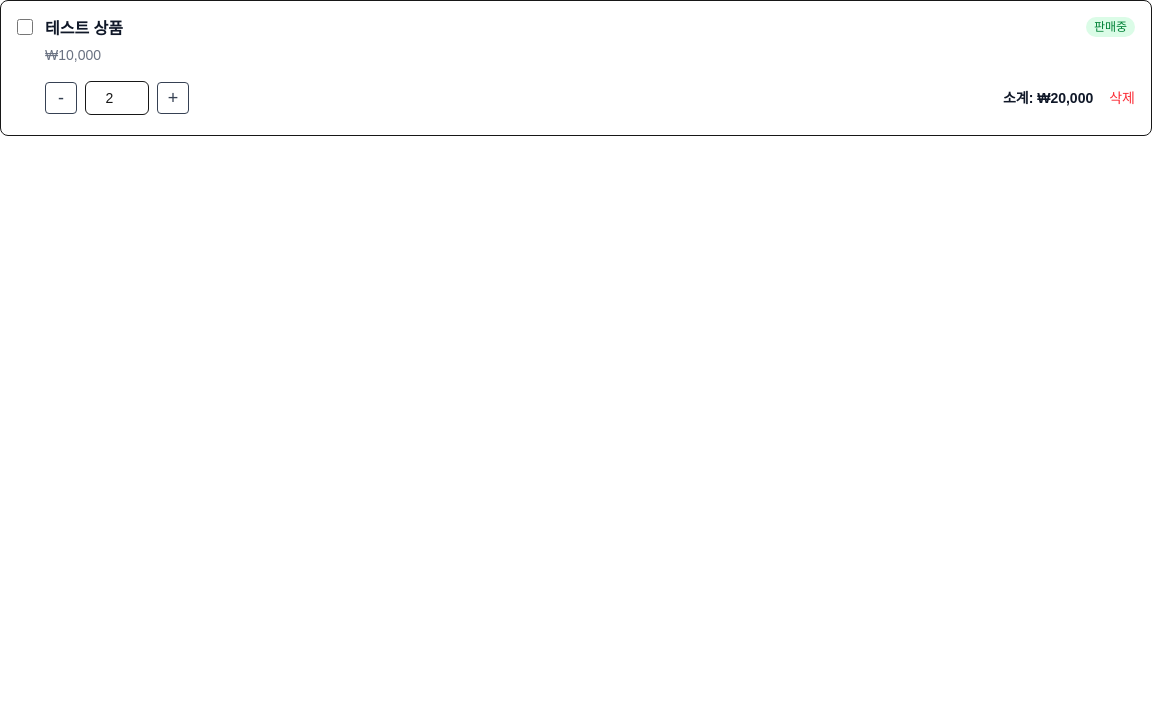
Test: CartItemRow › 삭제 다이얼로그에서 취소 시 다이얼로그가 닫힌다
Click the button "삭제" at (1122, 98), box [1109,88,1135,108]
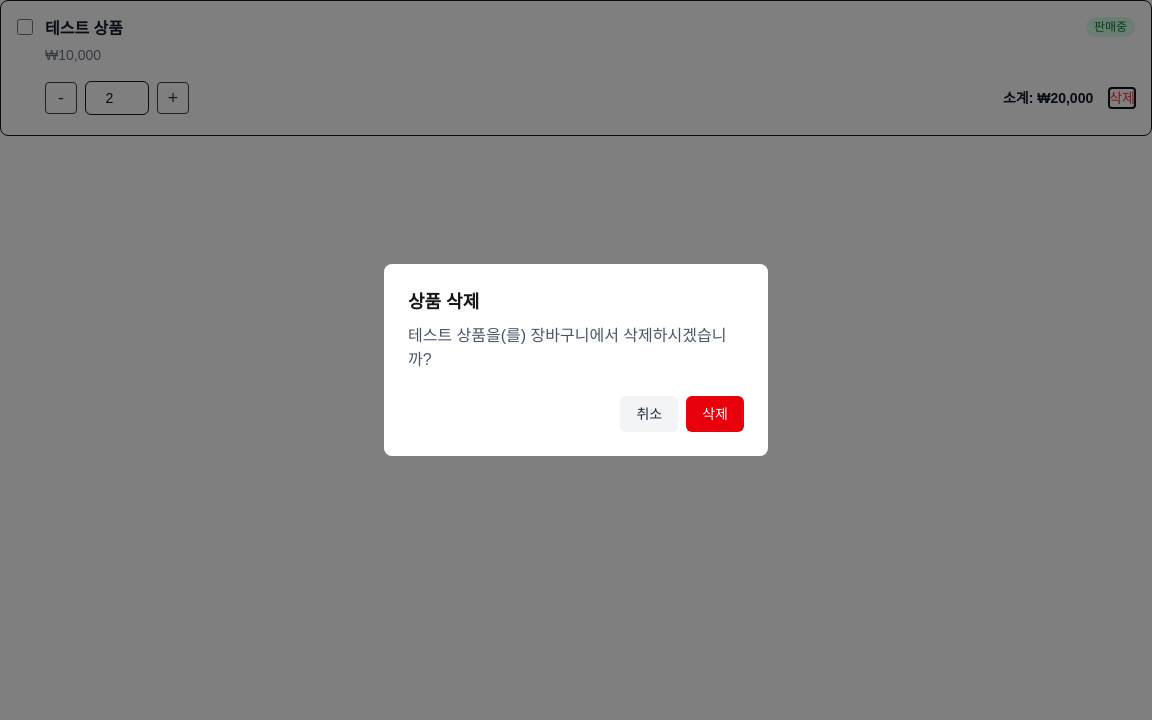
Click the button "취소" at (649, 414), box [620,396,678,432]
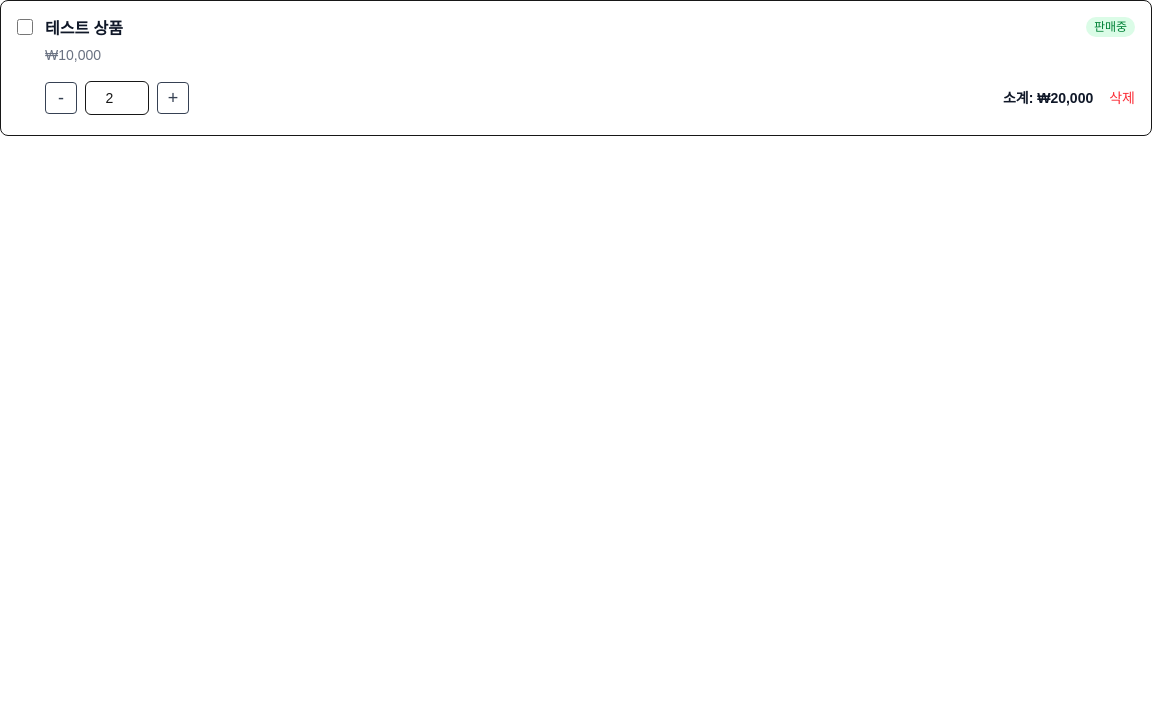
Now the heading "상품 삭제" is gone
